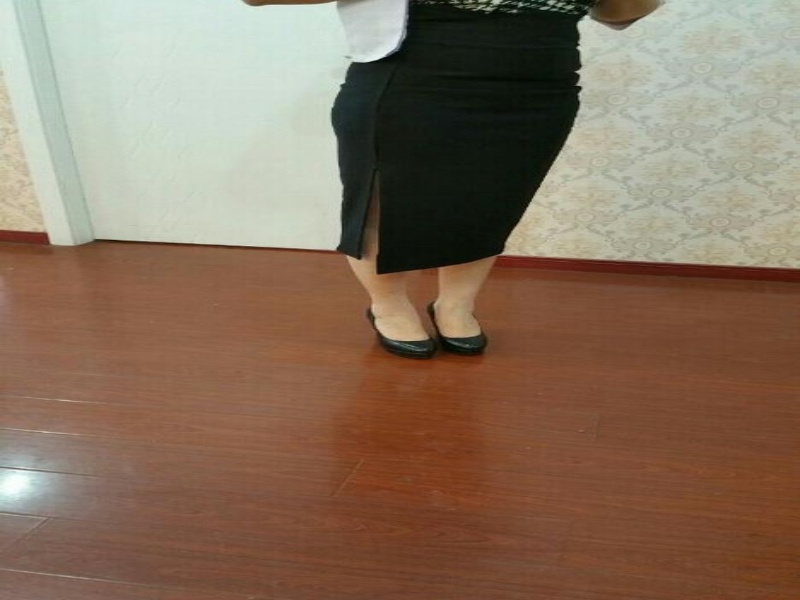skirt: (297, 1, 600, 277)
